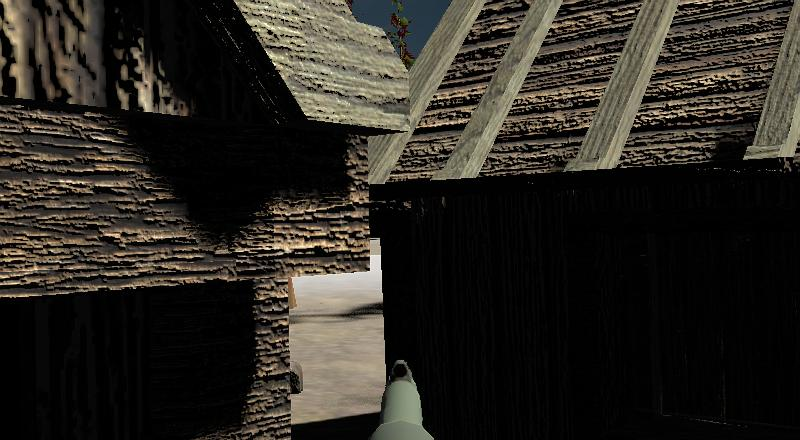House: (405, 1, 800, 148)
